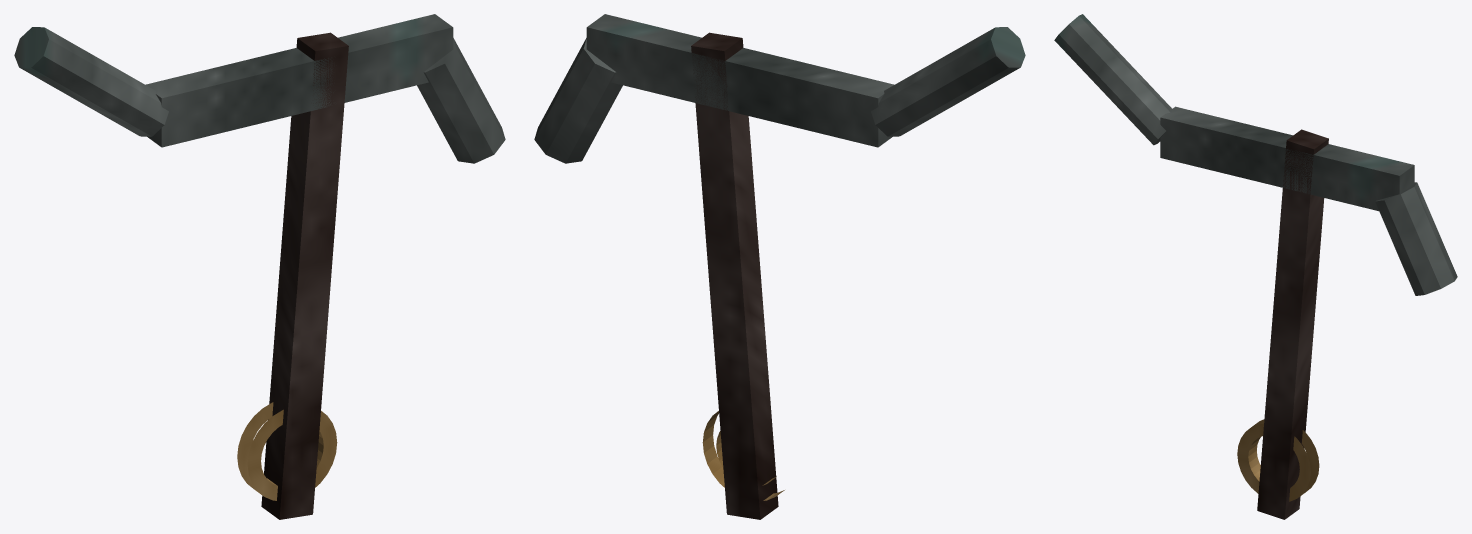
Rendered from 0892_climbing_axe_17.glb.
The picture shows the model from 3 angles, left to right: view 1: azimuth 30°, elevation 25°; view 2: azimuth 150°, elevation 25°; view 3: azimuth 330°, elevation 25°; orthographic projection. The views are drawn at different scales.
Visible parts, largest first — view 1: iron, wood_dark, brass; view 2: iron, wood_dark, brass; view 3: iron, wood_dark, brass.
Part boxes in pixels (left/top/right/bottom): iron: left=14, top=14, right=505, bottom=163; wood_dark: left=261, top=32, right=348, bottom=519; brass: left=237, top=402, right=337, bottom=500; iron: left=534, top=14, right=1025, bottom=163; wood_dark: left=691, top=32, right=778, bottom=519; brass: left=702, top=411, right=784, bottom=500; iron: left=1054, top=14, right=1457, bottom=295; wood_dark: left=1257, top=129, right=1328, bottom=519; brass: left=1237, top=419, right=1319, bottom=501.
Size of the model in its own units: 1.08 by 1.16 by 0.11.
3 materials, 3 textured.
